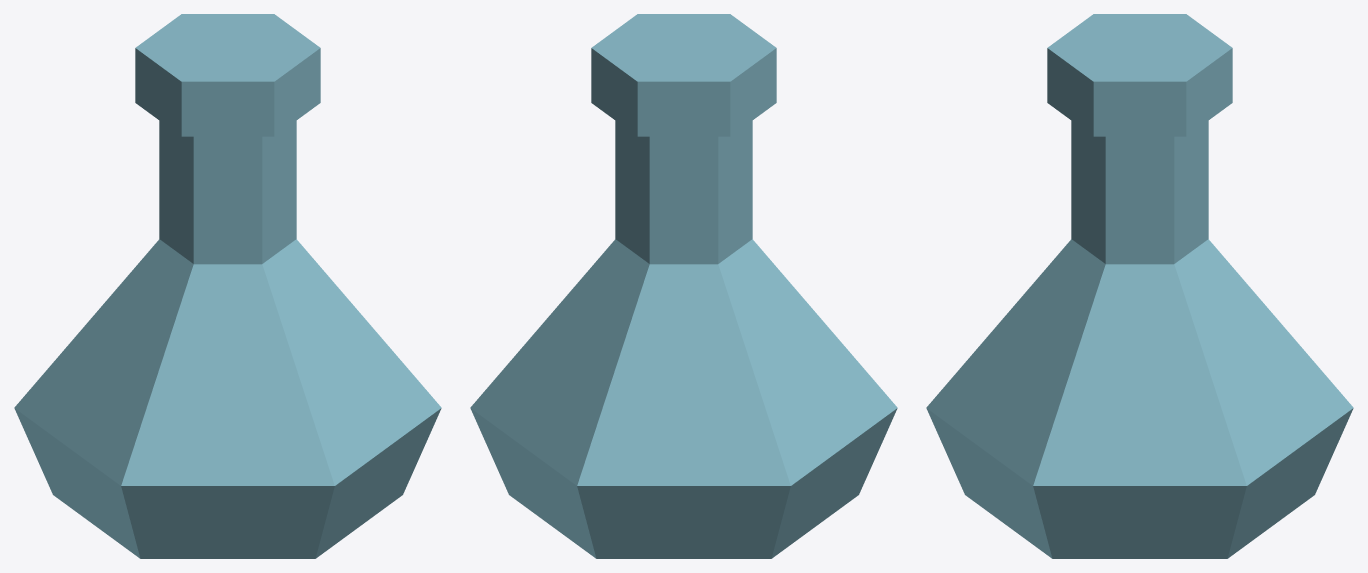
The model's file is healthPotion.obj.
The picture shows the model from 3 angles, left to right: view 1: azimuth 30°, elevation 25°; view 2: azimuth 150°, elevation 25°; view 3: azimuth 270°, elevation 25°; orthographic projection.
Visible parts, largest first — view 1: healthPotion_Cylinder_glass; view 2: healthPotion_Cylinder_glass; view 3: healthPotion_Cylinder_glass.
Boxes of the visible parts, box(x1,y1,x2,y2) form: healthPotion_Cylinder_glass: box(14, 14, 441, 558); healthPotion_Cylinder_glass: box(470, 14, 897, 558); healthPotion_Cylinder_glass: box(926, 14, 1353, 558).
Size of the model in its own units: 0.2058 by 0.2741 by 0.2376.
